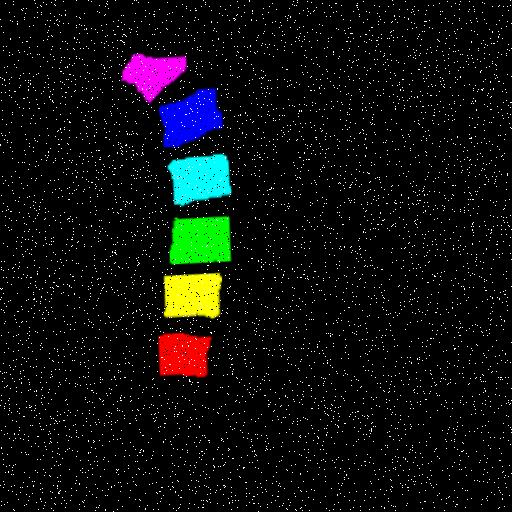L1: (151, 336, 203, 379)
L2: (158, 275, 214, 321)
L3: (165, 219, 225, 266)
L4: (165, 158, 225, 207)
L5: (157, 91, 219, 149)
S1: (120, 55, 184, 104)
